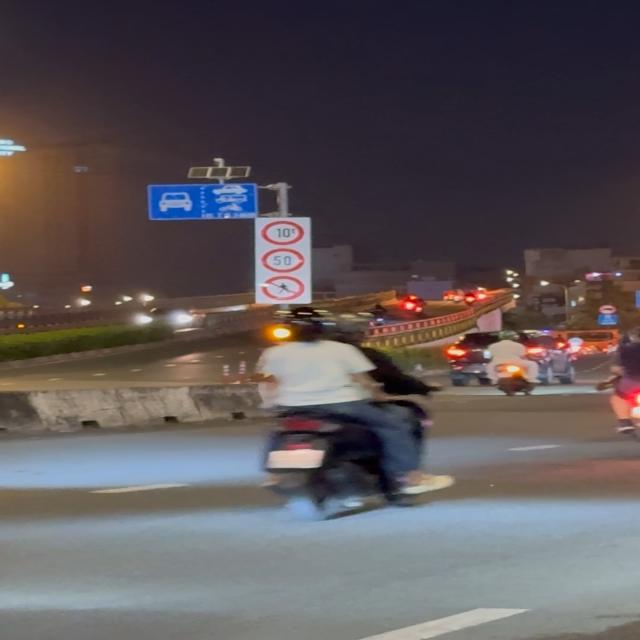Bien bao cam nguoi di bo: (260, 276, 305, 301)
Bien bao toc do toi da cho phep: (260, 247, 308, 276)
